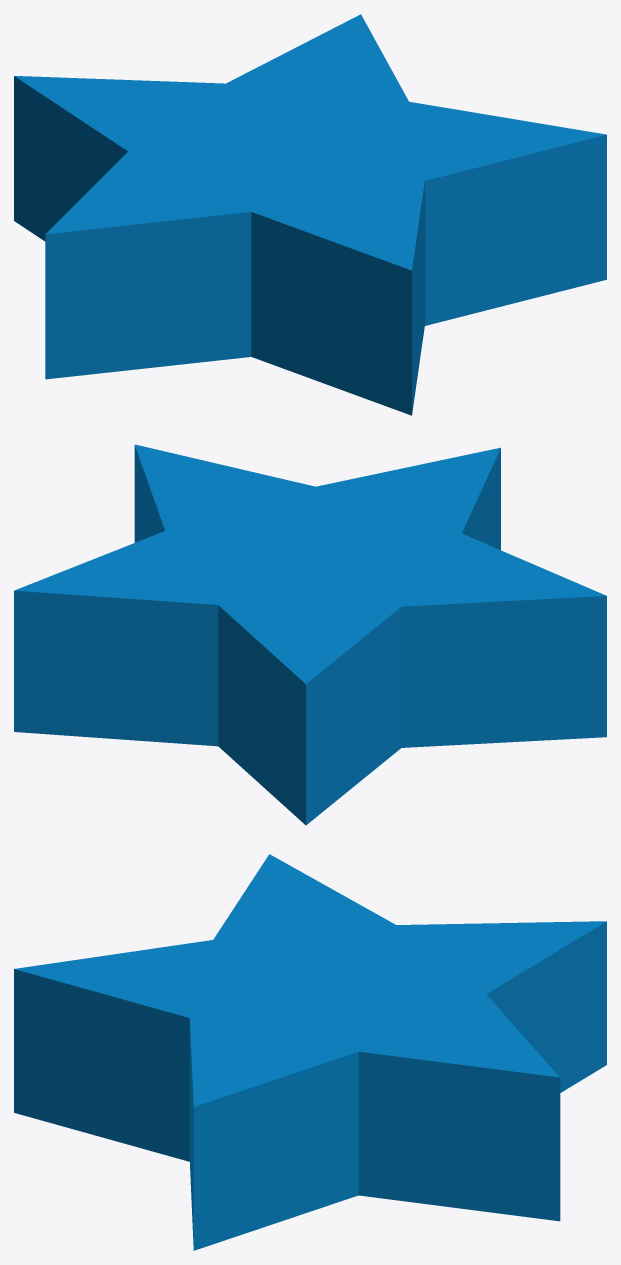
The model's file is Mini_Star.fbx.
3 views of the same model, one above another, from view 1: azimuth 30°, elevation 25°; view 2: azimuth 150°, elevation 25°; view 3: azimuth 270°, elevation 25° (orthographic). The views are drawn at different scales.
Parts seen in each view (by area): view 1: Mini_Star; view 2: Mini_Star; view 3: Mini_Star.
Boxes of the visible parts, x1=… form: Mini_Star: x1=14, y1=14, x2=606, y2=415; Mini_Star: x1=14, y1=444, x2=606, y2=825; Mini_Star: x1=14, y1=854, x2=606, y2=1250.
Size of the model in its own units: 9.57 by 2.53 by 9.47.
Materials: 1 (1 with a texture image).
